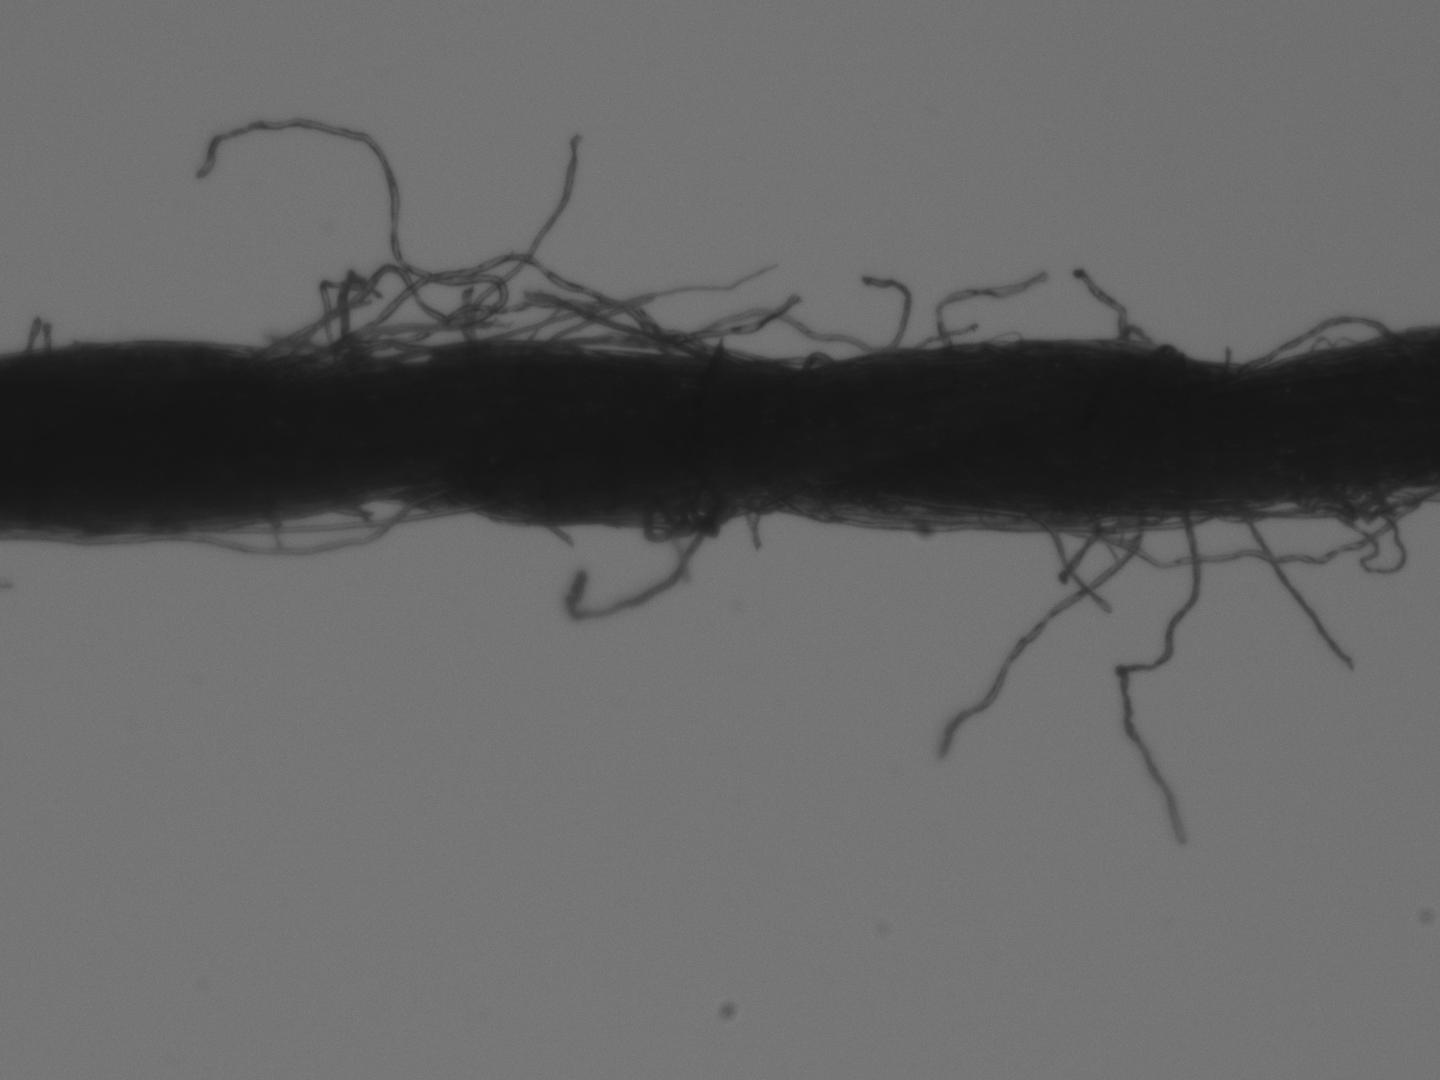loop_fiber: (305, 264, 704, 366), (1071, 488, 1420, 571), (65, 496, 415, 558), (225, 491, 473, 535), (1238, 313, 1394, 369), (1321, 488, 1405, 573), (1219, 490, 1378, 523), (547, 334, 730, 361), (639, 501, 731, 543), (310, 339, 439, 366), (1335, 489, 1431, 523), (1036, 513, 1209, 531), (799, 352, 835, 373), (1116, 323, 1145, 347)
protruding_fiber: (197, 115, 507, 357), (355, 136, 579, 360), (941, 522, 1142, 753), (1118, 514, 1202, 844), (1240, 509, 1358, 674), (574, 526, 702, 619), (938, 275, 1045, 351), (1069, 260, 1128, 336)
